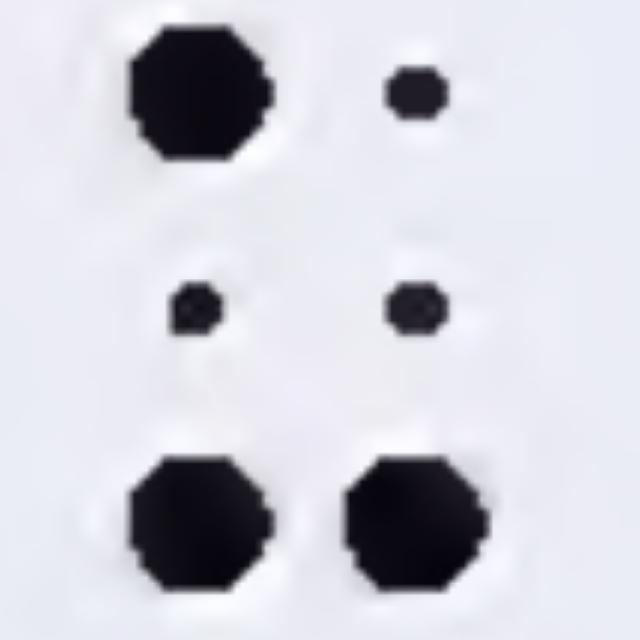letter_u: (129, 19, 491, 594)
